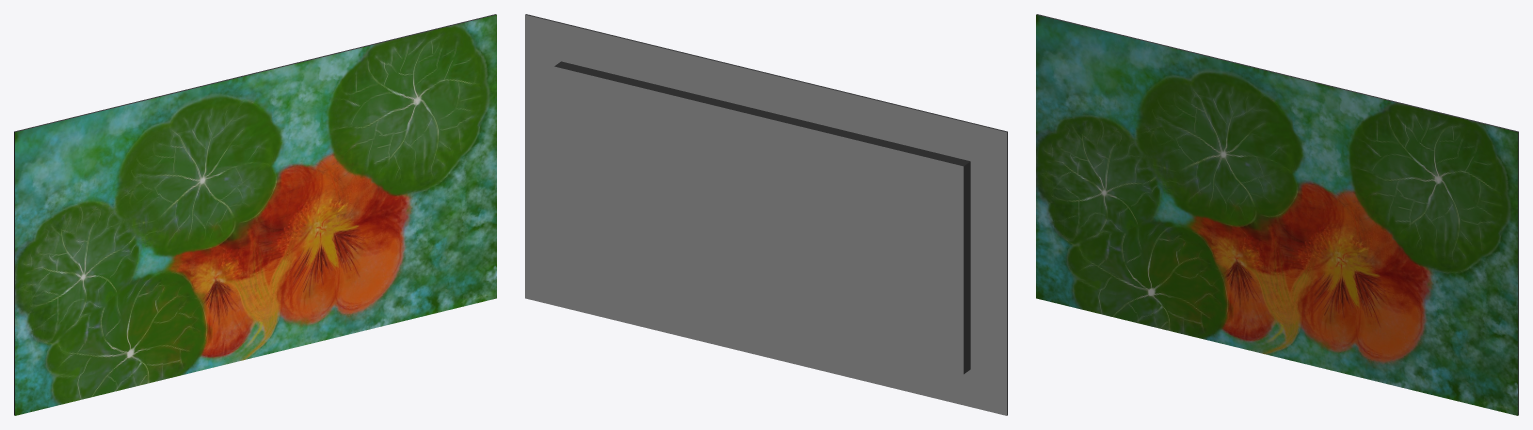
Rendered from hz019_moyen_dibond.glb.
The picture shows the model from 3 angles, left to right: view 1: azimuth 30°, elevation 25°; view 2: azimuth 150°, elevation 25°; view 3: azimuth 330°, elevation 25°; orthographic projection.
Parts seen in each view (by area): view 1: hz019_moyen_dibond; view 2: hz019_moyen_dibond; view 3: hz019_moyen_dibond.
Part boxes in pixels (x1=…): hz019_moyen_dibond: x1=14, y1=14, x2=496, y2=415; hz019_moyen_dibond: x1=525, y1=14, x2=1007, y2=415; hz019_moyen_dibond: x1=1036, y1=14, x2=1518, y2=415.
Bounding box in the file's own units: 0.8 × 0.45 × 0.023.
4 materials, 1 textured.
